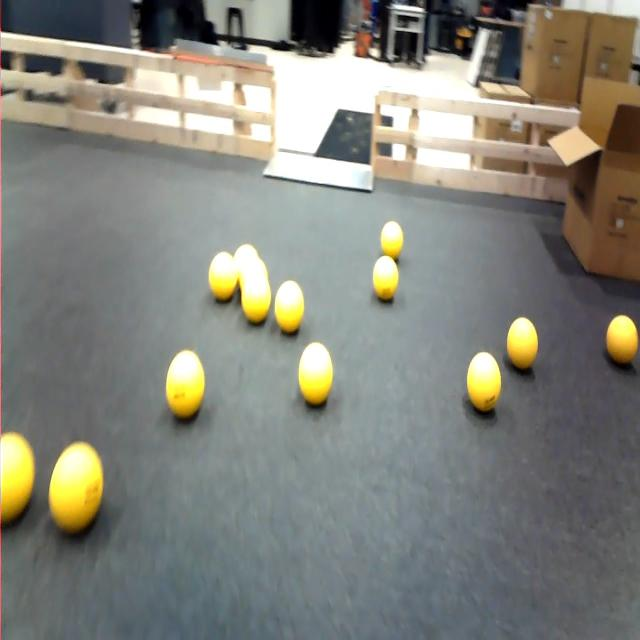fuel: (49, 442, 103, 534), (0, 432, 34, 525), (166, 351, 204, 419), (299, 343, 332, 405), (467, 352, 501, 412), (507, 318, 538, 370), (606, 315, 638, 365), (275, 281, 304, 333), (242, 272, 271, 324), (209, 252, 238, 301), (373, 256, 398, 301), (239, 257, 268, 291), (381, 222, 403, 260), (234, 244, 258, 269)
